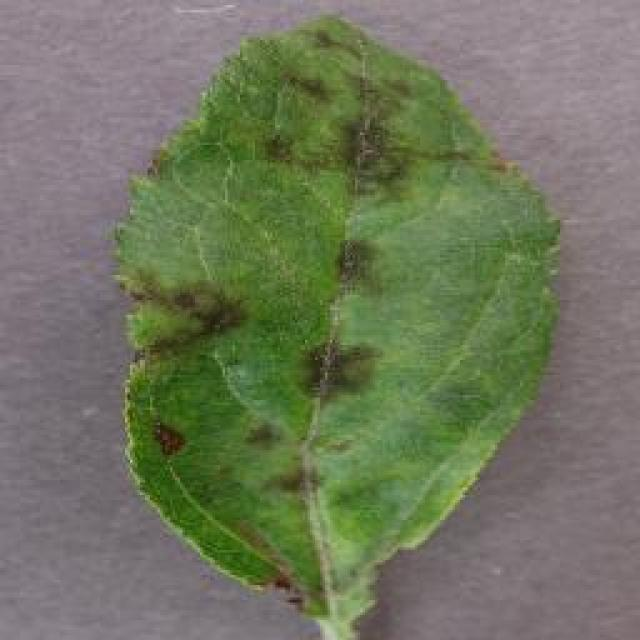apple scab disease: (110, 10, 562, 638)
